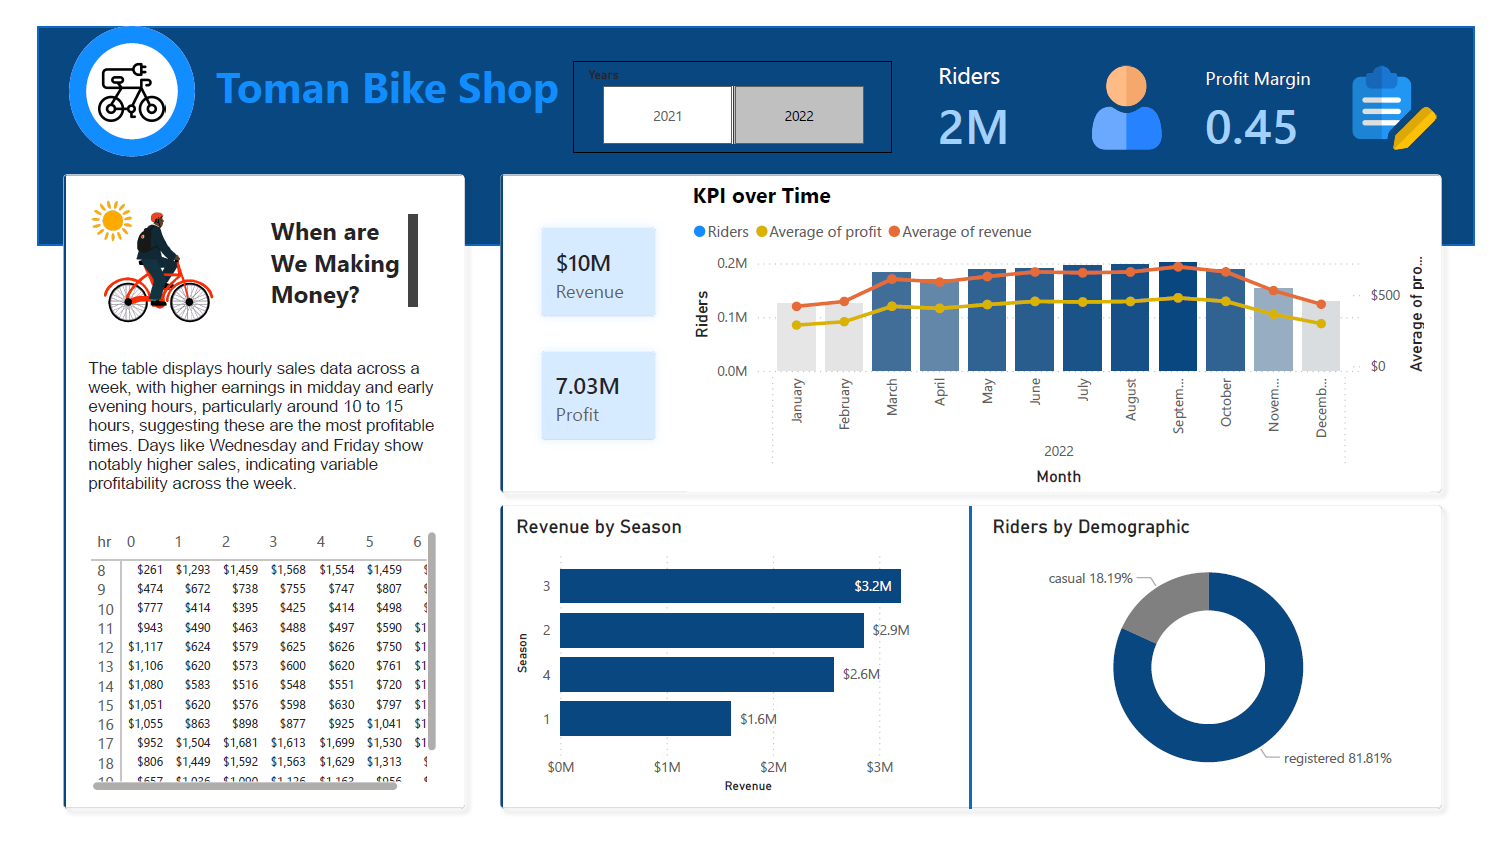

The page's visual inventory and layout, read from the dashboard file:
{"tool":"powerbi","page":{"name":"Dashboard","canvas":[1280,720],"ordinal":0},"visuals":[{"type":"shape","box":[10,0,1270,194],"z":0},{"type":"cardVisual","fields":{"Data":["Min(Query1.riders)"]},"box":[4.4,102.2,412.2,617.8],"z":1000},{"type":"cardVisual","fields":{"Data":["Min(Query1.riders)"]},"box":[390,102,890,339],"z":2000},{"type":"cardVisual","fields":{"Data":["Min(Query1.riders)"]},"box":[390,394,890,326],"z":3000},{"type":"cardVisual","fields":{"Data":["Min(Query1.riders)"]},"box":[40,126.7,144.4,161.1],"z":4000},{"type":"pivotTable","fields":{"Values":["Avg(Query1.revenue)"],"Columns":["Query1.weekday"],"Rows":["Query1.hr"]},"box":[53.3,441.1,314.4,240],"z":5000},{"type":"textbox","box":[211.1,161.1,140,93.3],"z":6000},{"type":"textbox","box":[50,287.8,322.2,144.4],"z":7000},{"type":"lineClusteredColumnComboChart","title":"KPI over Time","fields":{"Category":["Query1.dteday.Variation.Date Hierarchy.Year","Query1.dteday.Variation.Date Hierarchy.Month","Query1.dteday.Variation.Date Hierarchy.Day"],"Y":["Sum(Query1.riders)"],"Y2":["Avg(Query1.profit)","Avg(Query1.revenue)"]},"box":[584,136,656,275],"z":8000},{"type":"clusteredBarChart","fields":{"Y":["Sum(Query1.revenue)"],"Category":["Query1.season"]},"box":[427.8,432.2,393.3,250],"z":9000},{"type":"donutChart","fields":{"Category":["Query1.rider_type"],"Y":["Sum(Query1.riders)"]},"box":[848.9,432.2,391.1,250],"z":10000},{"type":"shape","box":[821,424,27,267],"z":11000},{"type":"cardVisual","title":"KPI over Time","fields":{"Data":["Sum(Query1.revenue)","Sum(Query1.profit)"]},"box":[427,150,157,244],"z":12000},{"type":"cardVisual","fields":{"Data":["Sum(Query1.riders)","Query1.Profit Margin"]},"box":[777,16,498,111],"z":13000},{"type":"shape","box":[38,0,111,115],"z":14000},{"type":"image","box":[64,7,59,102],"z":15000},{"type":"textbox","box":[163,23,317,64],"z":16000},{"type":"slicer","fields":{"Values":["Query1.Years"]},"box":[483,31,282,81],"z":17000}]}

Visuals, with their boxes in screenshot pixels (x1, y1, x2, y2), scaled from the page's 1280x720 canvas onto the 1500x866 screenshot:
shape: detection(12, 0, 1499, 233)
cardVisual - Min(Query1.riders): detection(5, 123, 488, 865)
cardVisual - Min(Query1.riders): detection(457, 123, 1499, 530)
cardVisual - Min(Query1.riders): detection(457, 474, 1499, 865)
cardVisual - Min(Query1.riders): detection(47, 152, 216, 346)
pivotTable - Avg(Query1.revenue) x Query1.weekday: detection(62, 531, 431, 819)
textbox: detection(247, 194, 411, 306)
textbox: detection(59, 346, 436, 520)
"KPI over Time" lineClusteredColumnComboChart: detection(684, 164, 1453, 494)
clusteredBarChart - Sum(Query1.revenue) x Query1.season: detection(501, 520, 962, 821)
donutChart - Query1.rider_type x Sum(Query1.riders): detection(995, 520, 1453, 821)
shape: detection(962, 510, 994, 831)
"KPI over Time" cardVisual: detection(500, 180, 684, 474)
cardVisual - Sum(Query1.riders) x Query1.Profit Margin: detection(911, 19, 1494, 153)
shape: detection(45, 0, 175, 138)
image: detection(75, 8, 144, 131)
textbox: detection(191, 28, 562, 105)
slicer - Query1.Years: detection(566, 37, 896, 135)
